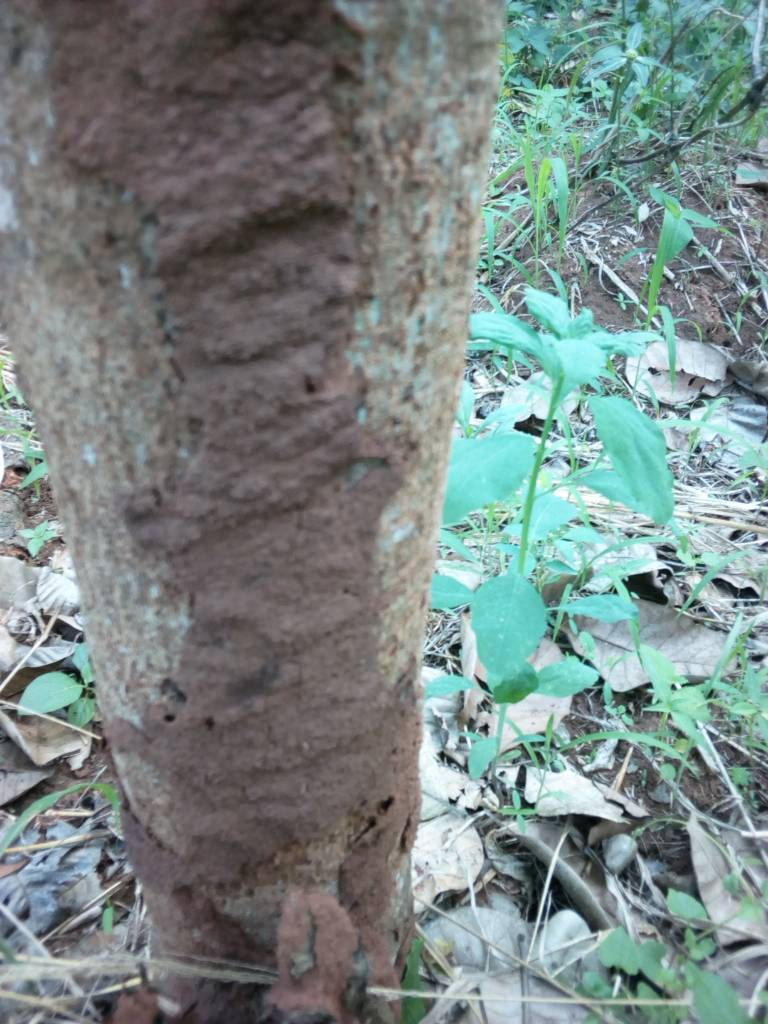Termites: (100, 19, 430, 939)
